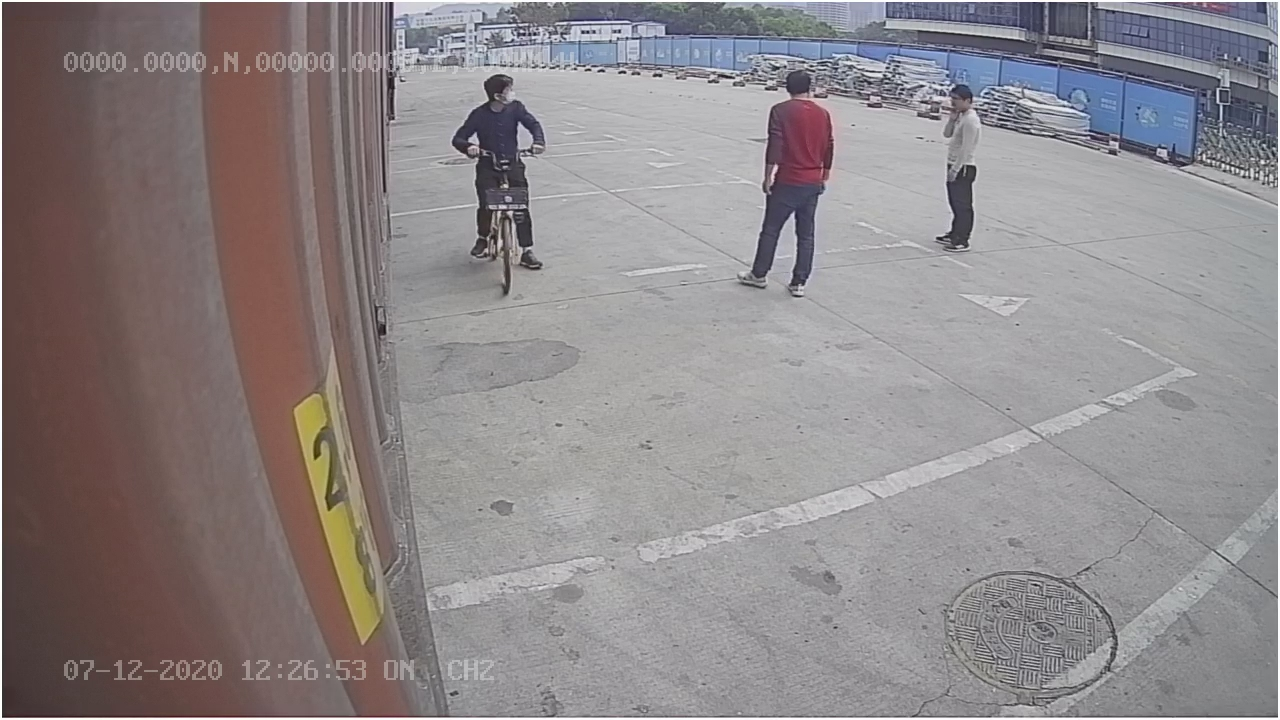person: (733, 64, 836, 297)
